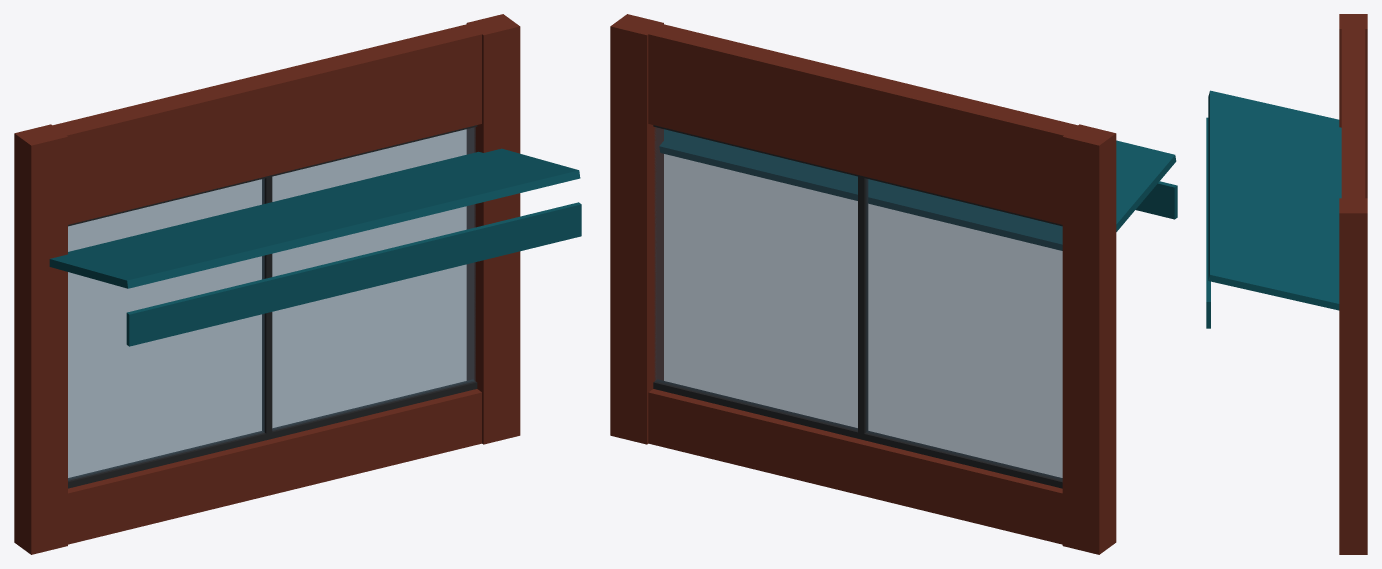
File: KIT_Storefront_4m_Brick_Teal.glb
3 views of the same model, side by side, from view 1: azimuth 30°, elevation 25°; view 2: azimuth 150°, elevation 25°; view 3: azimuth 270°, elevation 25° (orthographic). The views are drawn at different scales.
Visible parts, largest first — view 1: KIT_Storefront_4m_Brick_Teal; view 2: KIT_Storefront_4m_Brick_Teal; view 3: KIT_Storefront_4m_Brick_Teal.
Boxes of the visible parts, x1,y1,x2,y2 form: KIT_Storefront_4m_Brick_Teal: (14, 14, 581, 554); KIT_Storefront_4m_Brick_Teal: (610, 14, 1177, 554); KIT_Storefront_4m_Brick_Teal: (1206, 14, 1367, 554).
Bounding box in the file's own units: 4 × 3.2 × 1.37.
